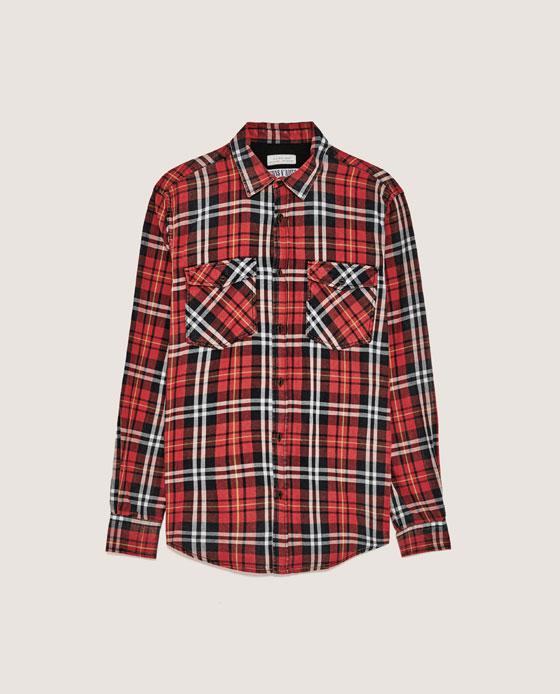teeshirt: (110, 117, 456, 589)
